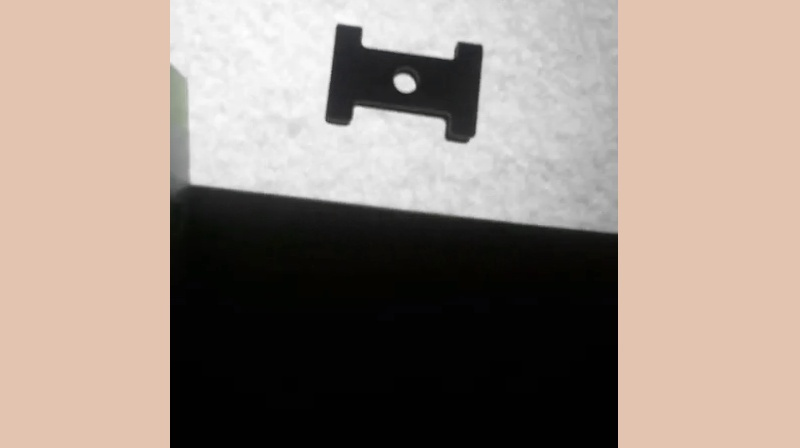O002: (321, 18, 486, 143)
